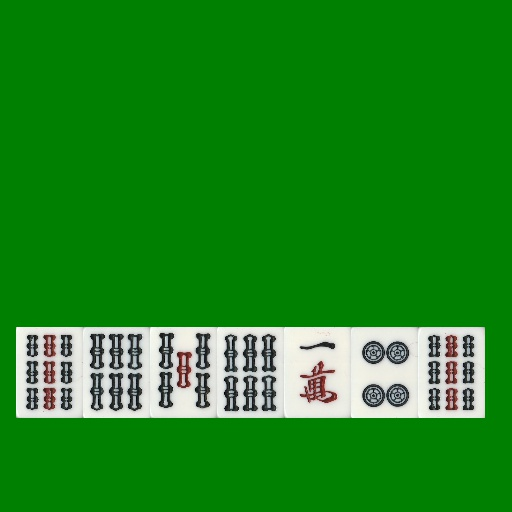1m: (284, 327, 351, 418)
4p: (351, 327, 418, 418)
5s: (150, 327, 217, 418)
6s: (83, 327, 150, 418), (217, 327, 284, 418)
9s: (16, 327, 83, 418), (418, 327, 485, 418)
